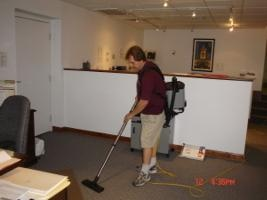person without safety: (122, 46, 167, 188)
